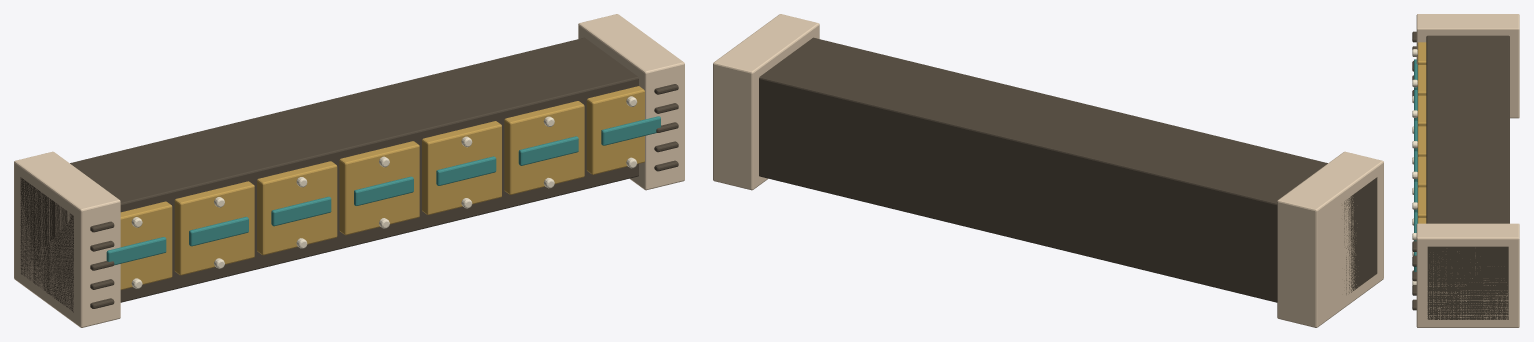
Rendered from barrier-housing-v1.glb.
3 views of the same model, side by side, from view 1: azimuth 30°, elevation 25°; view 2: azimuth 150°, elevation 25°; view 3: azimuth 270°, elevation 25° (orthographic). The views are drawn at different scales.
Visible parts, largest first — view 1: Mission1_barrier-housing; view 2: Mission1_barrier-housing; view 3: Mission1_barrier-housing.
Part boxes in pixels (bbox=[...]): Mission1_barrier-housing: bbox=[14, 14, 684, 327]; Mission1_barrier-housing: bbox=[713, 14, 1383, 327]; Mission1_barrier-housing: bbox=[1412, 14, 1519, 327].
Bounding box in the file's own units: 3.3 × 0.62 × 0.6675.
